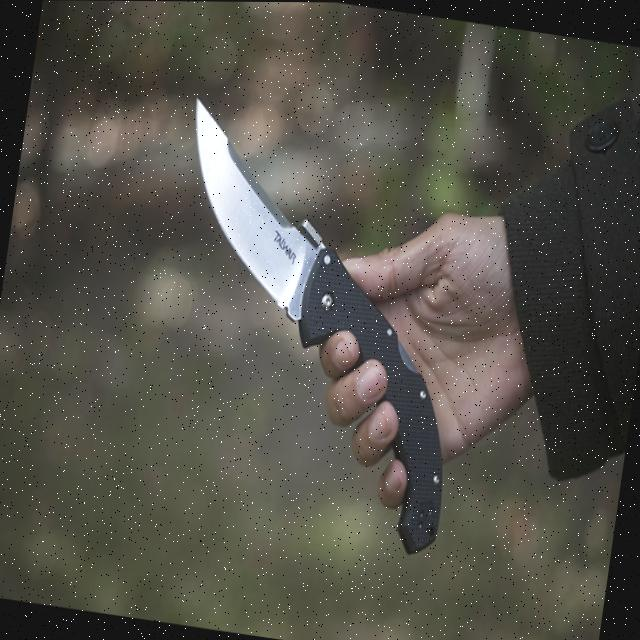knife: (126, 85, 506, 564)
